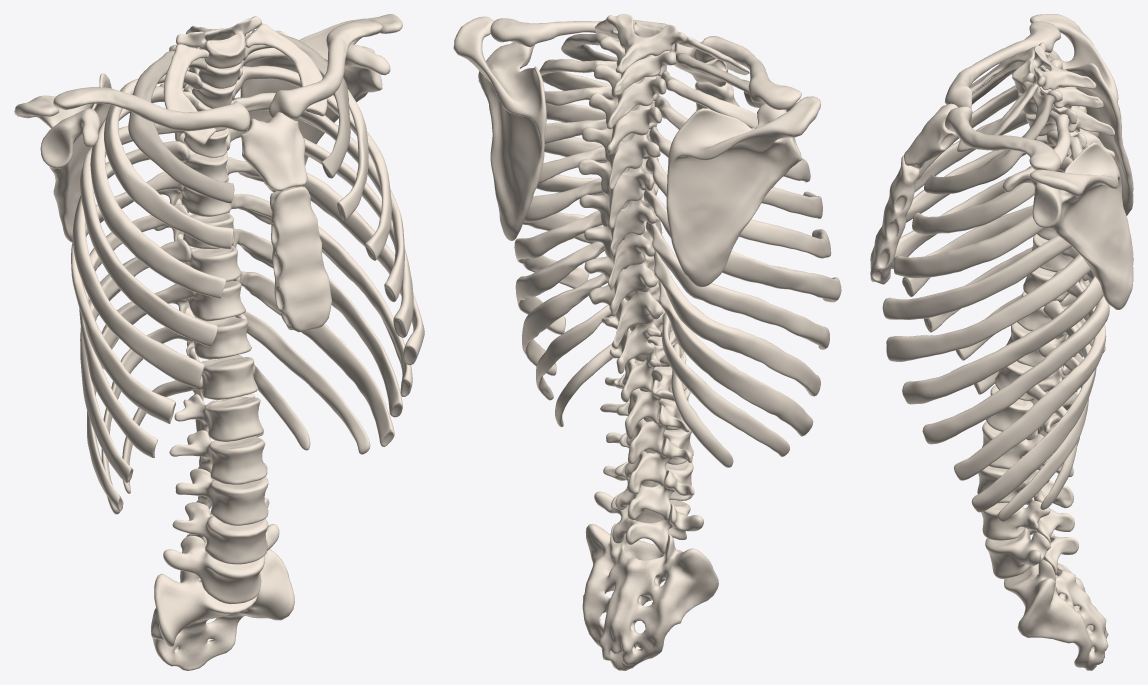
Rendered from pectoral-back-thorax-bones.glb.
The picture shows the model from 3 angles, left to right: view 1: azimuth 30°, elevation 25°; view 2: azimuth 150°, elevation 25°; view 3: azimuth 270°, elevation 25°; orthographic projection. The views are drawn at different scales.
Parts seen in each view (by area): view 1: Sacrum, Body of sternum, Scapula.r..001, Rib (6th).r, Scapula.r., Rib (4th).r, Rib (5th).r, Rib (3rd).r, Rib (7th).r, Manubrium of sternum, Rib (2nd).r, Clavicle.r.001 (+35 smaller); view 2: Scapula.r..001, Sacrum, Scapula.r., Rib (9th).r, Rib (10th).r, Rib (8th).r, Rib (7th).r, Rib (11th).r, Lumbar vertebra (L5), Lumbar vertebra (L4), Lumbar vertebra (L3), Clavicle.r.001 (+35 smaller); view 3: Scapula.r., Sacrum, Rib (7th).r.001, Rib (6th).r.001, Rib (8th).r.001, Scapula.r..001, Rib (5th).r.001, Rib (9th).r.001, Rib (4th).r.001, Rib (10th).r.001, Rib (3rd).r.001, Body of sternum (+30 smaller).
Boxes of the visible parts, left/top/right/bottom form: Sacrum: left=151, top=549, right=294, bottom=670; Body of sternum: left=270, top=186, right=332, bottom=332; Scapula.r..001: left=14, top=73, right=111, bottom=242; Rib (6th).r: left=72, top=141, right=204, bottom=388; Scapula.r.: left=240, top=14, right=402, bottom=191; Rib (4th).r: left=90, top=86, right=226, bottom=298; Rib (5th).r: left=80, top=123, right=217, bottom=346; Rib (3rd).r: left=104, top=71, right=233, bottom=248; Rib (7th).r: left=71, top=171, right=184, bottom=423; Manubrium of sternum: left=240, top=112, right=307, bottom=191; Rib (2nd).r: left=128, top=50, right=234, bottom=203; Clavicle.r.001: left=53, top=87, right=250, bottom=132; Scapula.r..001: left=666, top=96, right=820, bottom=287; Sacrum: left=582, top=523, right=718, bottom=670; Scapula.r.: left=453, top=16, right=546, bottom=240; Rib (9th).r: left=653, top=249, right=820, bottom=396; Rib (10th).r: left=658, top=279, right=813, bottom=436; Rib (8th).r: left=645, top=221, right=829, bottom=349; Rib (7th).r: left=643, top=187, right=841, bottom=302; Rib (11th).r: left=662, top=313, right=789, bottom=456; Lumbar vertebra (L5): left=594, top=491, right=703, bottom=554; Lumbar vertebra (L4): left=603, top=461, right=694, bottom=520; Lumbar vertebra (L3): left=606, top=429, right=693, bottom=494; Clavicle.r.001: left=694, top=36, right=801, bottom=109; Scapula.r.: left=1002, top=142, right=1133, bottom=309; Sacrum: left=1004, top=533, right=1108, bottom=670; Rib (7th).r.001: left=902, top=275, right=1103, bottom=404; Rib (6th).r.001: left=886, top=254, right=1090, bottom=361; Rib (8th).r.001: left=922, top=246, right=1109, bottom=444; Scapula.r..001: left=1030, top=14, right=1133, bottom=215; Rib (5th).r.001: left=882, top=156, right=1072, bottom=319; Rib (9th).r.001: left=954, top=270, right=1106, bottom=480; Rib (4th).r.001: left=893, top=130, right=1082, bottom=278; Rib (10th).r.001: left=971, top=300, right=1096, bottom=512; Rib (3rd).r.001: left=912, top=111, right=1070, bottom=235; Body of sternum: left=870, top=155, right=919, bottom=284.
Bounding box in the file's own units: 0.3467 × 0.5874 × 0.2295.
